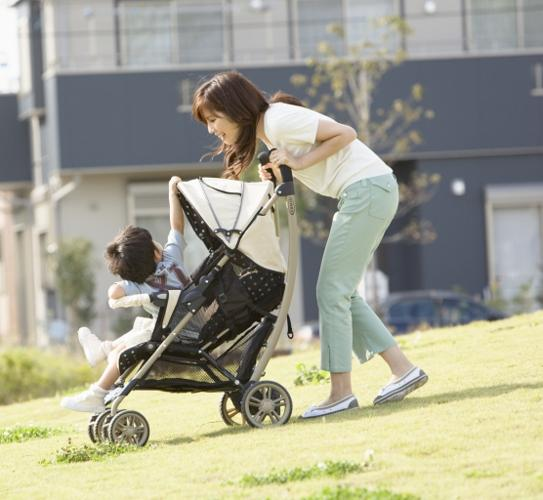person: (193, 70, 429, 421)
